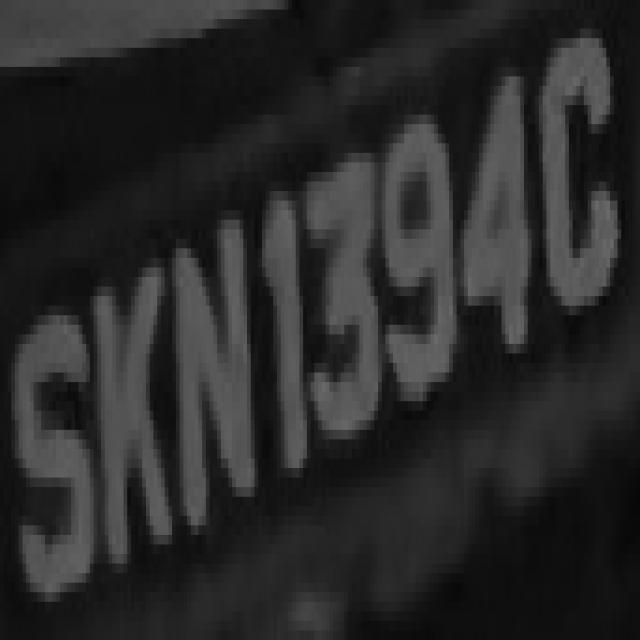1: (258, 172, 318, 506)
3: (303, 152, 382, 478)
4: (453, 48, 535, 392)
9: (374, 86, 460, 420)
C: (535, 9, 625, 353)
K: (82, 220, 172, 582)
N: (168, 200, 258, 544)
S: (4, 286, 97, 630)
